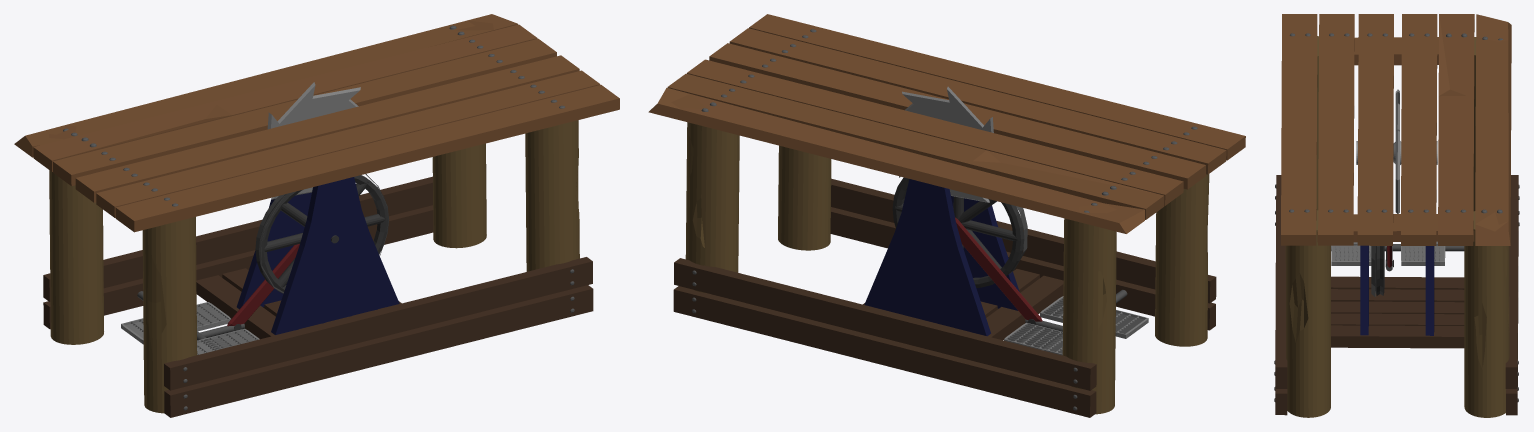
File: Circular_Saw.fbx
3 renders of one model, left to right at view 1: azimuth 30°, elevation 25°; view 2: azimuth 150°, elevation 25°; view 3: azimuth 270°, elevation 25°, orthographic. The views are drawn at different scales.
Parts seen in each view (by area): view 1: circular saw; view 2: circular saw; view 3: circular saw.
Boxes of the visible parts, left/top/right/bottom form: circular saw: left=14, top=14, right=619, bottom=417; circular saw: left=648, top=14, right=1245, bottom=417; circular saw: left=1274, top=14, right=1519, bottom=417.
Size of the model in its own units: 638 by 303 by 293.
